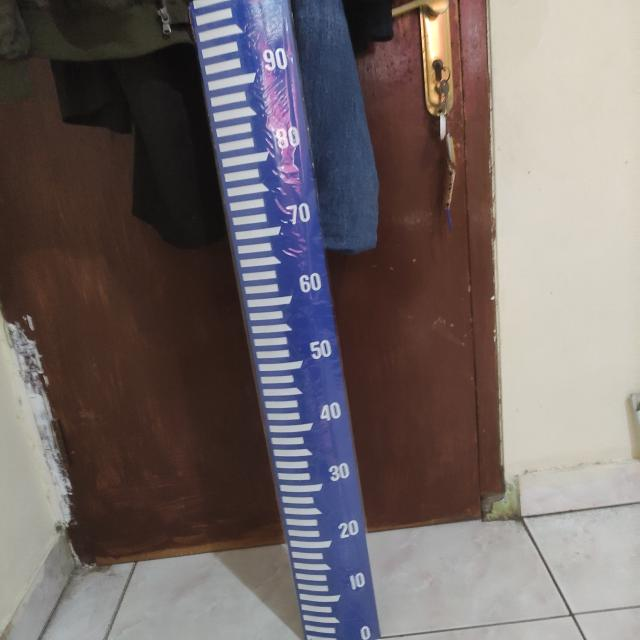10: (348, 570, 370, 592)
20: (337, 518, 363, 538)
30: (328, 459, 353, 484)
40: (318, 400, 345, 425)
50: (307, 337, 335, 362)
60: (296, 268, 324, 296)
70: (285, 201, 315, 226)
80: (277, 126, 302, 150)
90: (263, 46, 288, 74)
staff: (195, 2, 384, 640)
